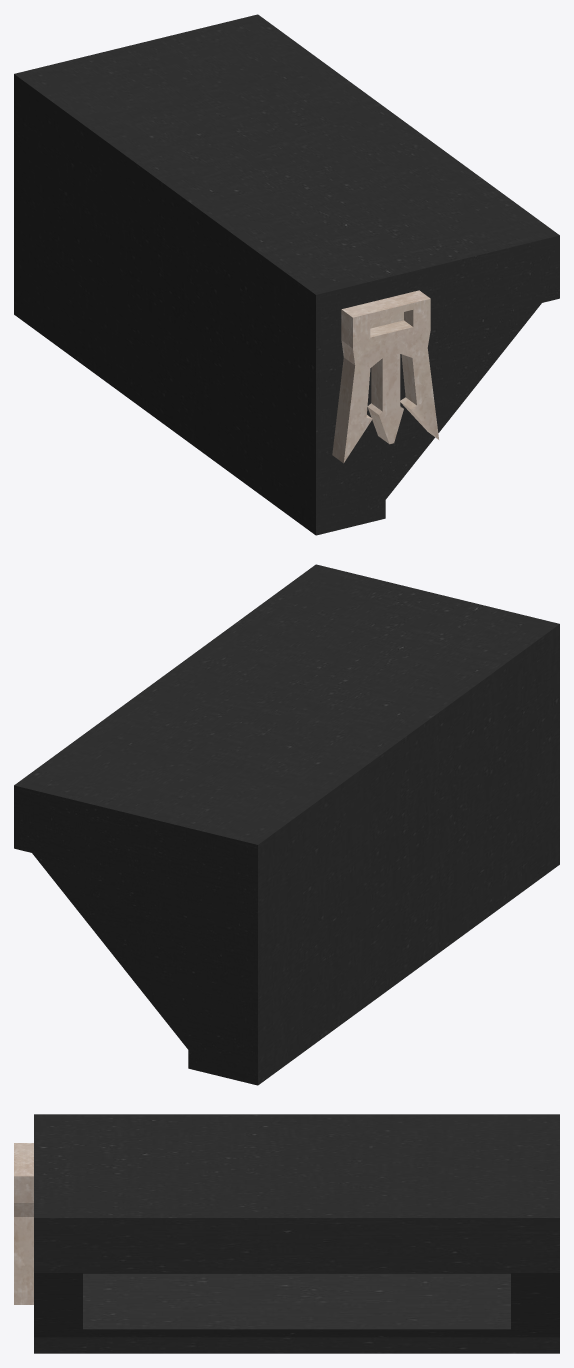
File: trapdoorlock.glb
The picture shows the model from 3 angles, top to bottom: view 1: azimuth 30°, elevation 25°; view 2: azimuth 150°, elevation 25°; view 3: azimuth 270°, elevation 25°; orthographic projection. The views are drawn at different scales.
Parts seen in each view (by area): view 1: Trident Keyhole; view 2: Trident Keyhole; view 3: Trident Keyhole.
Part boxes in pixels (<box>): Trident Keyhole: <box>14,14,559,535</box>; Trident Keyhole: <box>14,564,559,1085</box>; Trident Keyhole: <box>14,1114,559,1353</box>.
Size of the model in its own units: 2.77 by 2.61 by 6.16.
2 materials, 2 textured.
